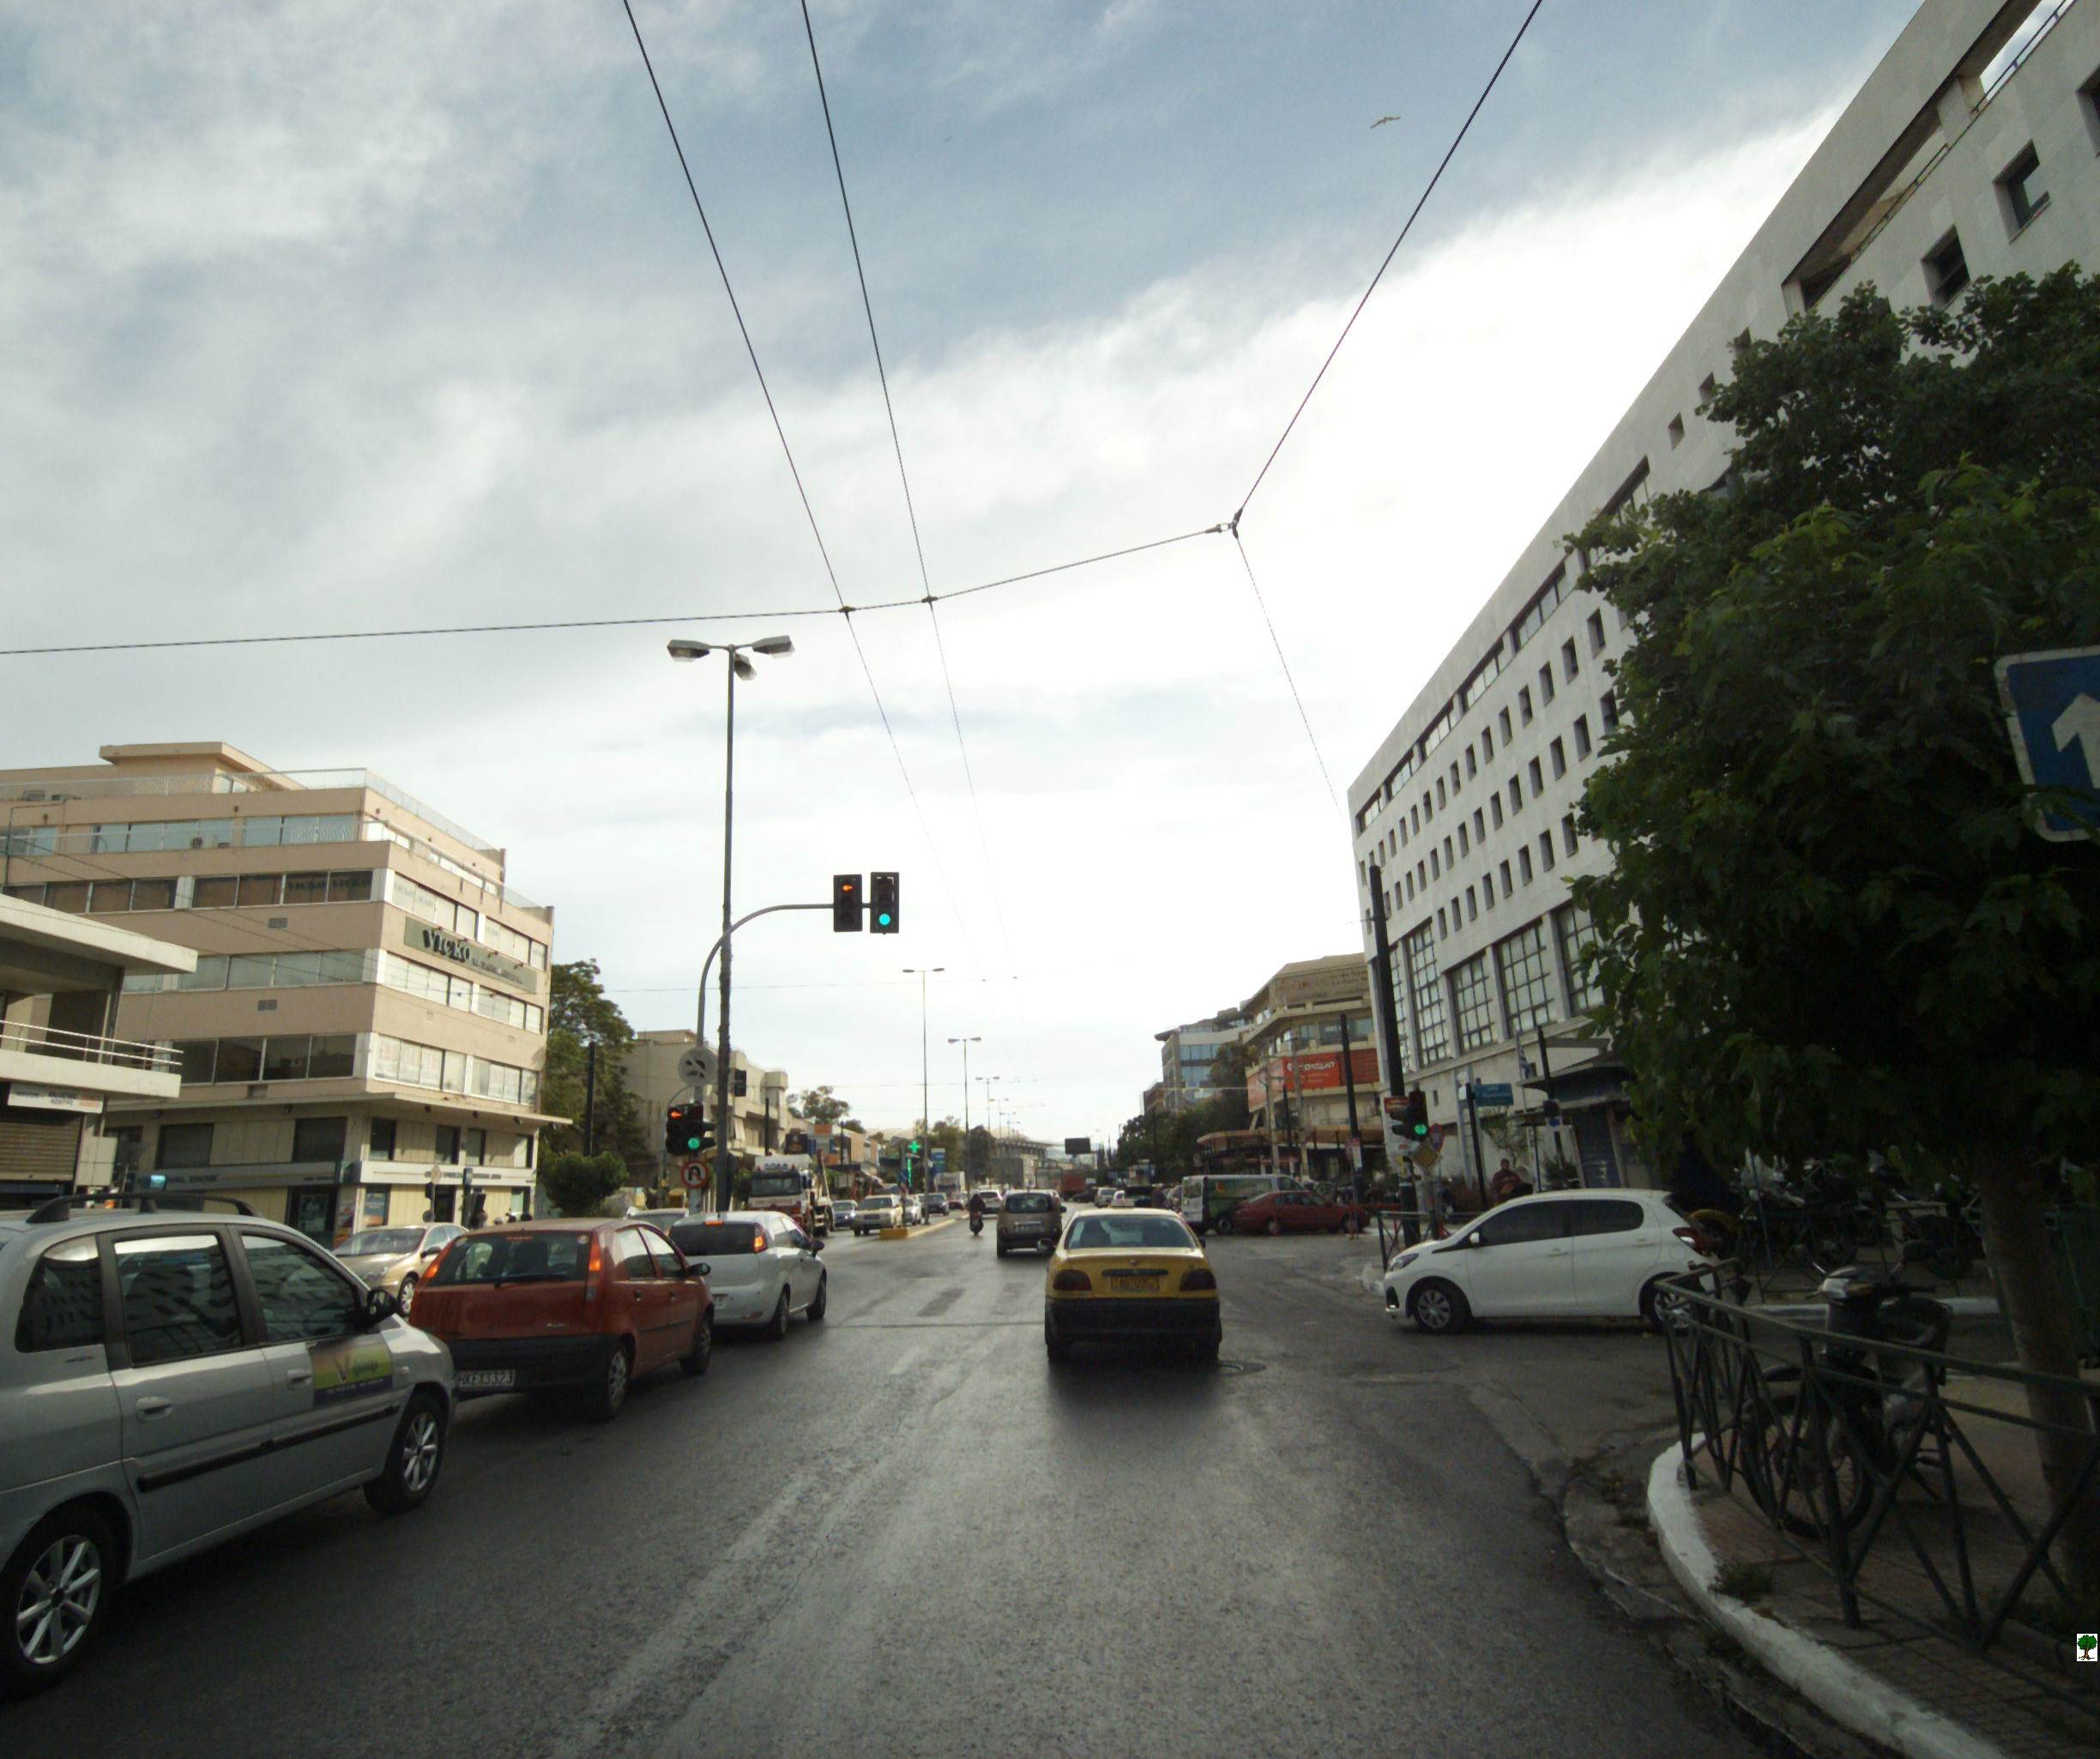tree: (1585, 239, 2100, 1668)
